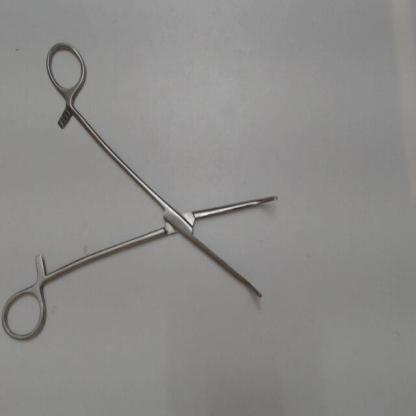Lahey Forceps: (3, 38, 288, 348)
